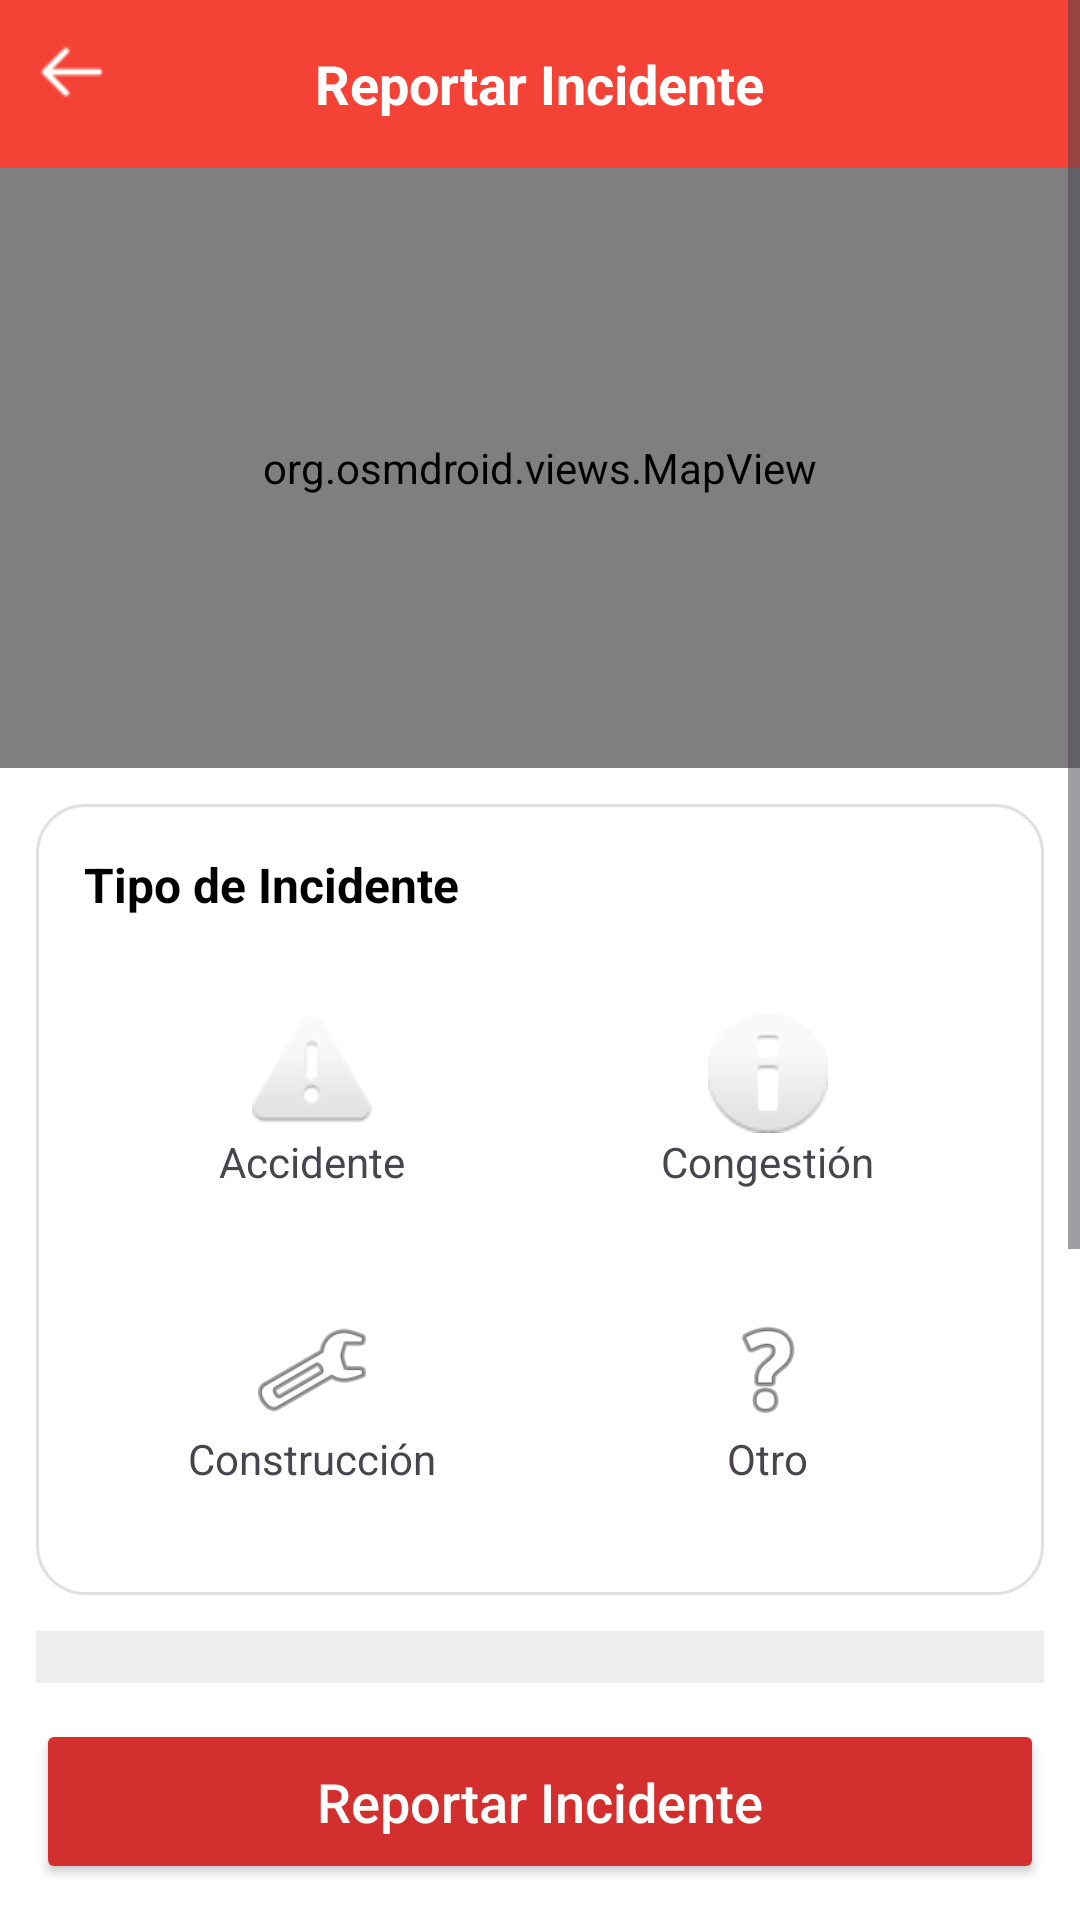

Locate icon controls on the screen. Image size 1080 x 1920, boxes as (x1, y1, x2, y2).
alert: (252, 1041, 372, 1122)
arrow: (41, 47, 103, 97)
help: (742, 1327, 795, 1413)
info: (708, 1035, 828, 1133)
manage: (258, 1329, 366, 1411)
